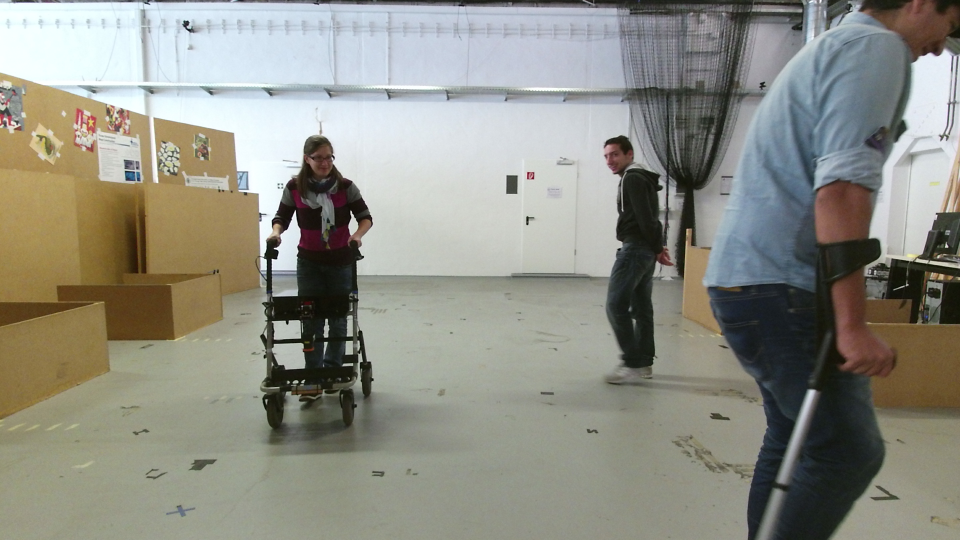crutches: (700, 1, 940, 536)
